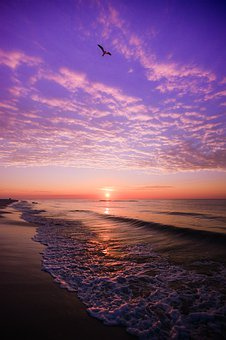beach: (10, 178, 226, 338)
sky: (5, 4, 222, 172)
